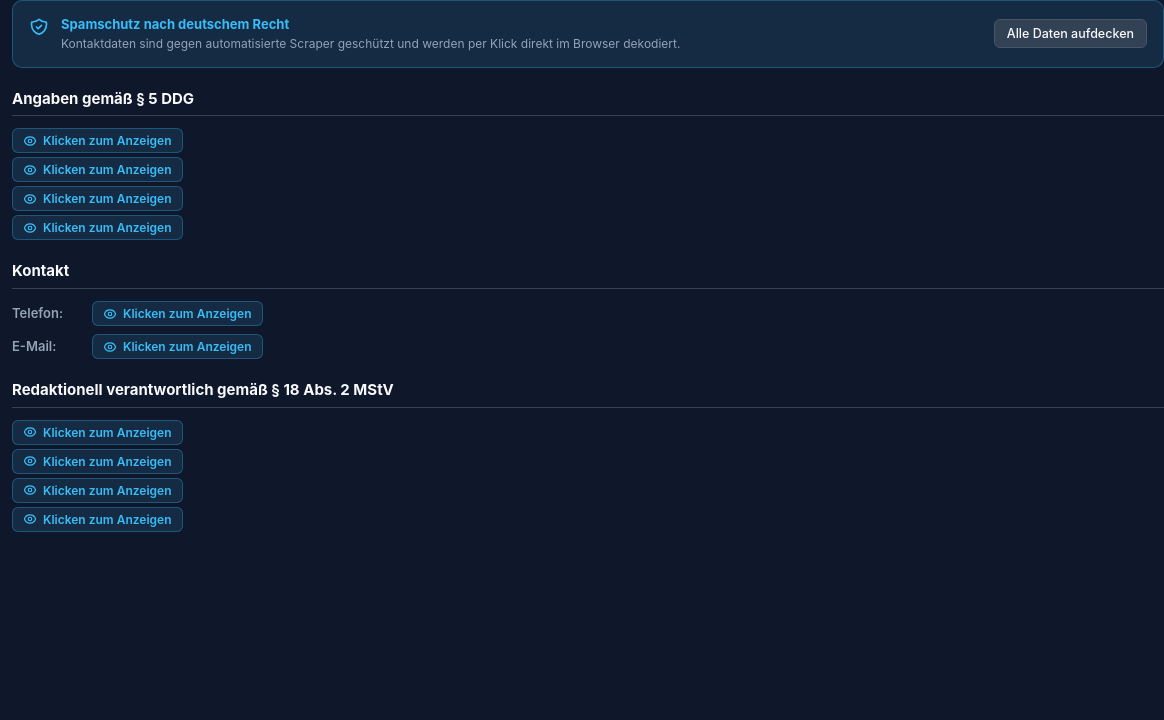
Scenario: Rechtliche Komponenten & Impressum › ImpressumContent › rendert Abschnittsüberschriften und deckt alle Daten per Klick auf
Expected: the heading "Angaben gemäß § 5 DDG" is shown, [12,88,1163,116]
Expected: the heading "Kontakt" is shown, [12,260,1163,289]
Click the button "Alle Daten aufdecken": point(1070, 34) [994,19,1147,48]
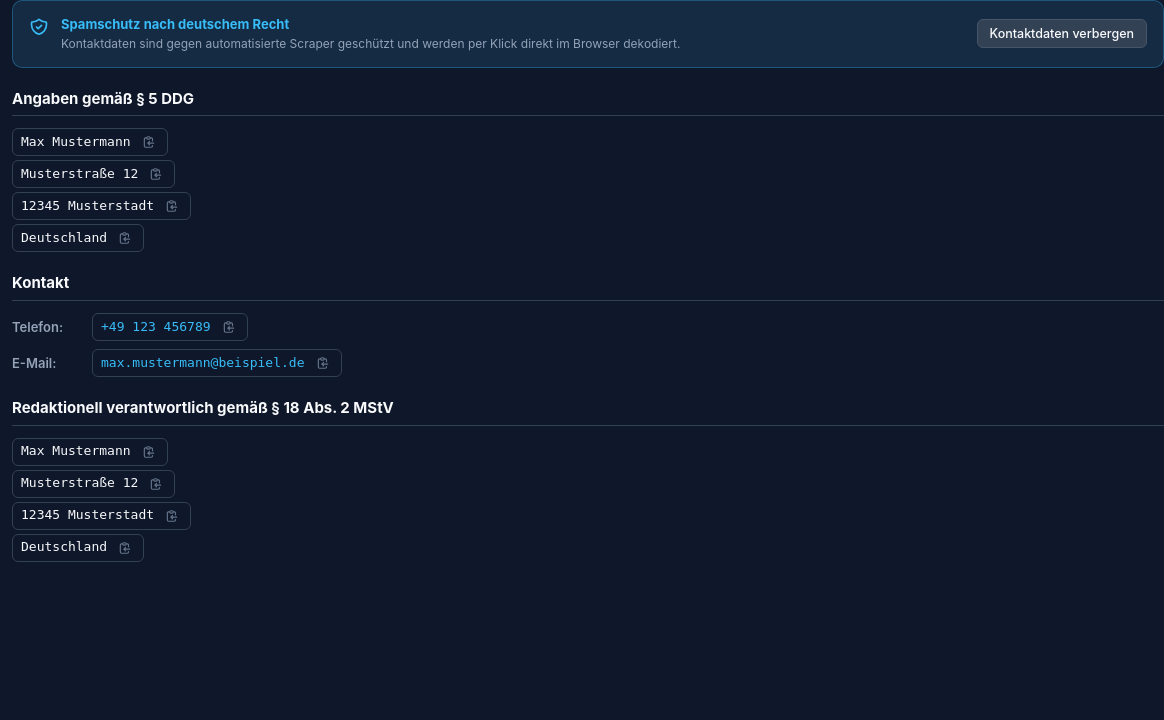
Now the text "Max Mustermann" below "Angaben gemäß § 5 DDG" is shown, box [21,134,131,149]
Now the link "max.mustermann@beispiel.de" is shown, box [101,354,304,372]
